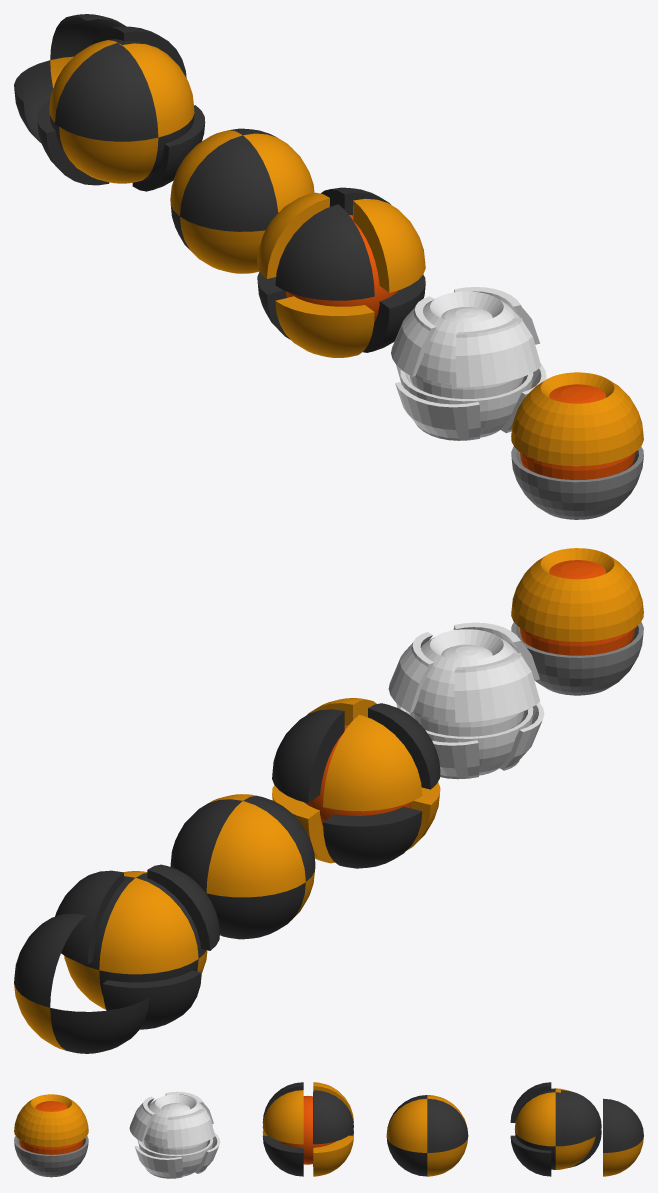
The picture shows the model from 3 angles, top to bottom: view 1: azimuth 30°, elevation 25°; view 2: azimuth 150°, elevation 25°; view 3: azimuth 270°, elevation 25°; orthographic projection. The views are drawn at different scales.
Parts seen in each view (by area): view 1: Sphere, Sphere.Right.001, Sphere.Edge.003, Sphere.3DTriangle.020, Sphere.3DTriangle.011, Sphere.Right.003, Sphere.Right, Sphere.3DTriangle.018, Sphere.3DTriangle.026, Sphere.3DTriangle.010, Sphere.Edge, Sphere.3DTriangle.014 (+11 smaller); view 2: Sphere, Sphere.Right.001, Sphere.Edge.003, Sphere.3DTriangle.007, Sphere.3DTriangle.008, Sphere.Right.003, Sphere.Right, Sphere.014, Sphere.3DTriangle.009, Sphere.012, Sphere.3DTriangle.021, Sphere.3DTriangle.019 (+12 smaller); view 3: Sphere, Sphere.Right.001, Sphere.Edge.003, Sphere.3DTriangle.013, Sphere.3DTriangle.014, Sphere.3DTriangle.026, Sphere.012, Sphere.3DTriangle.019, Sphere.Right.003, Sphere.Right, Sphere.3DTriangle.022, Sphere.Edge.001 (+13 smaller).
Part boxes in pixels (<box>): Sphere: <box>257,187,425,357</box>; Sphere.Right.001: <box>511,372,643,466</box>; Sphere.Edge.003: <box>391,287,541,387</box>; Sphere.3DTriangle.020: <box>55,43,154,139</box>; Sphere.3DTriangle.011: <box>180,135,278,231</box>; Sphere.Right.003: <box>511,446,643,519</box>; Sphere.Right: <box>416,291,519,384</box>; Sphere.3DTriangle.018: <box>59,126,158,183</box>; Sphere.3DTriangle.026: <box>122,43,194,137</box>; Sphere.3DTriangle.010: <box>180,217,265,273</box>; Sphere.Edge: <box>395,365,480,440</box>; Sphere.3DTriangle.014: <box>243,133,314,212</box>; Sphere: <box>272,698,440,868</box>; Sphere.Right.001: <box>511,548,643,641</box>; Sphere.Edge.003: <box>388,622,539,722</box>; Sphere.3DTriangle.007: <box>99,878,198,974</box>; Sphere.3DTriangle.008: <box>206,801,305,897</box>; Sphere.Right.003: <box>511,622,643,695</box>; Sphere.Right: <box>413,629,517,722</box>; Sphere.014: <box>50,997,149,1053</box>; Sphere.3DTriangle.009: <box>206,882,305,939</box>; Sphere.012: <box>14,913,85,1007</box>; Sphere.3DTriangle.021: <box>102,970,201,1029</box>; Sphere.3DTriangle.019: <box>55,870,123,964</box>; Sphere: <box>262,1082,353,1176</box>; Sphere.Right.001: <box>14,1094,88,1146</box>; Sphere.Edge.003: <box>129,1091,215,1147</box>; Sphere.3DTriangle.013: <box>427,1098,468,1152</box>; Sphere.3DTriangle.014: <box>386,1099,427,1152</box>; Sphere.3DTriangle.026: <box>515,1092,555,1146</box>; Sphere.012: <box>603,1098,643,1152</box>; Sphere.3DTriangle.019: <box>561,1090,601,1144</box>; Sphere.Right.003: <box>14,1136,88,1177</box>; Sphere.Right: <box>144,1094,212,1146</box>; Sphere.3DTriangle.022: <box>510,1135,551,1176</box>; Sphere.Edge.001: <box>134,1145,182,1178</box>.
Bounding box in the file's own units: 276 × 267 × 1844.
